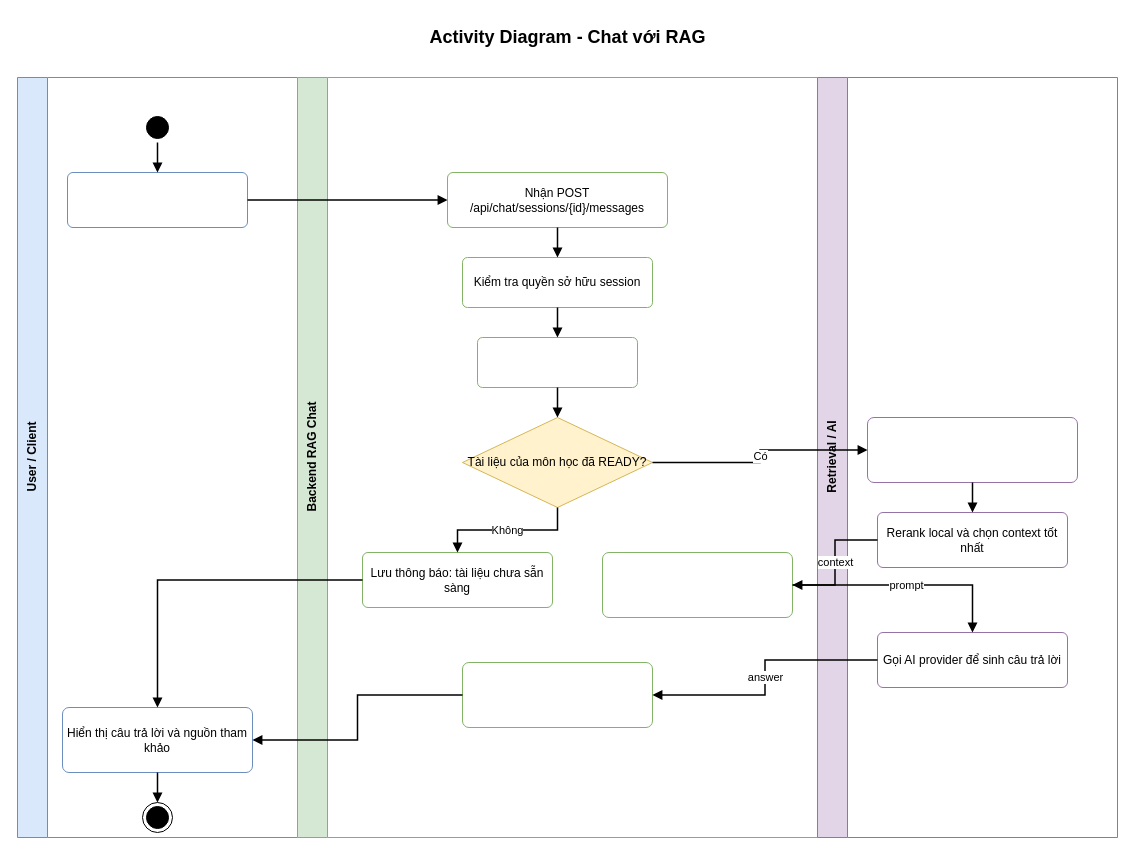
The diagram is 1135 pixels wide and 855 high, and some of its shapes have lost their labels. The shapes that lost their labels are listed below. From the top down, each one's centre as x and y in pixels, then its label:
At point 157,200: "Nhập câu hỏi trong phiên chat".
At point 557,362: "Lưu USER message".
At point 972,449: "Tạo embedding và tìm chunks liên quan bằng pgvector".
At point 697,585: "Build prompt từ câu hỏi + lịch sử + context".
At point 557,695: "Lưu ASSISTANT message, sources và AgentLog".
